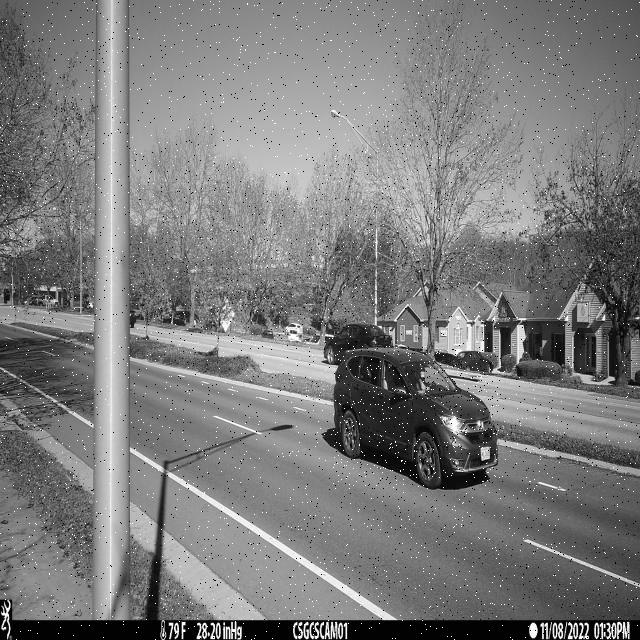SUV: (333, 346, 499, 490)
